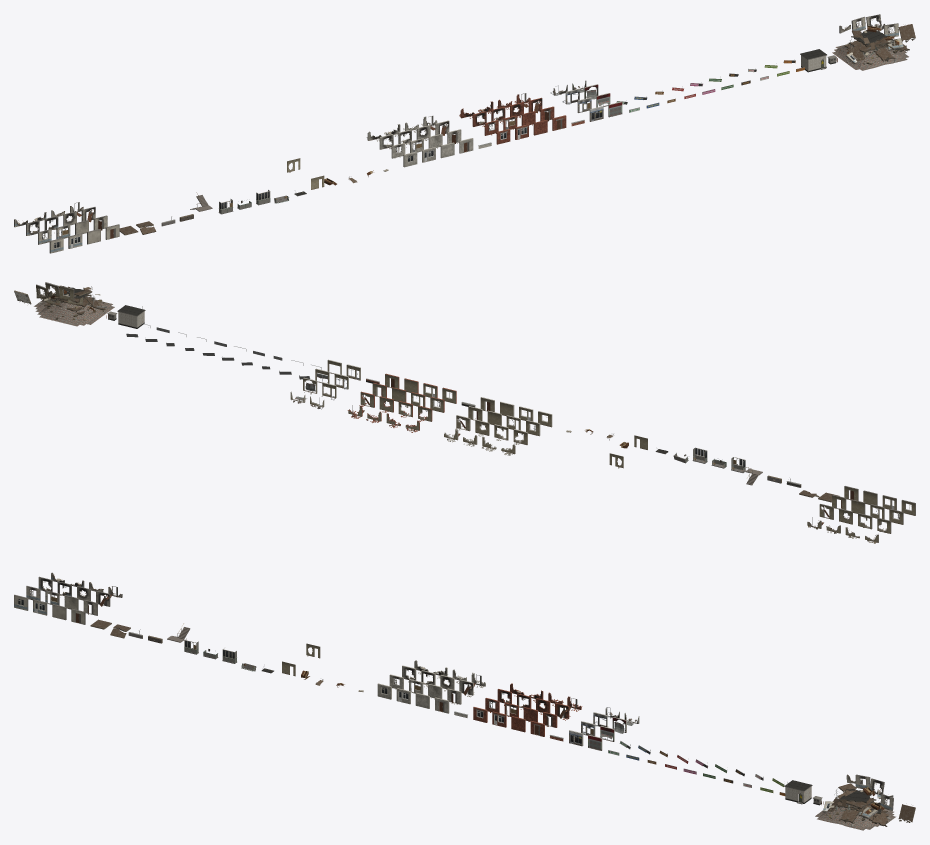
Rendered from panel_kit.glb.
3 views of the same model, one above another, from view 1: azimuth 30°, elevation 25°; view 2: azimuth 150°, elevation 25°; view 3: azimuth 330°, elevation 25° (orthographic). The views are drawn at different scales.
Visible parts, largest first — view 1: collapse_pile_large, roof_machine_room; view 2: collapse_pile_large, roof_machine_room; view 3: collapse_pile_large, roof_machine_room, collapse_pile_small.
Part boxes in pixels (x1,y1,x2,y2): collapse_pile_large: (832,14,908,70); roof_machine_room: (800,49,826,72); collapse_pile_large: (35,282,114,326); roof_machine_room: (117,305,145,328); collapse_pile_large: (815,774,893,830); roof_machine_room: (784,780,812,804); collapse_pile_small: (870,794,895,826).
Size of the model in its own units: 210 by 7.84 by 23.51.
2 materials, 2 textured.
